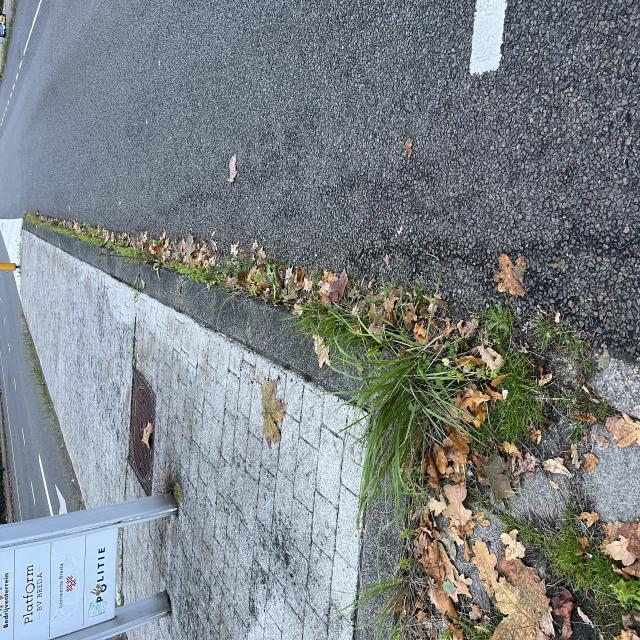leaves: (0, 74, 429, 507), (153, 351, 200, 382), (139, 188, 169, 208)
pavement: (282, 0, 475, 640), (105, 26, 313, 184)
weed: (119, 301, 336, 458)
